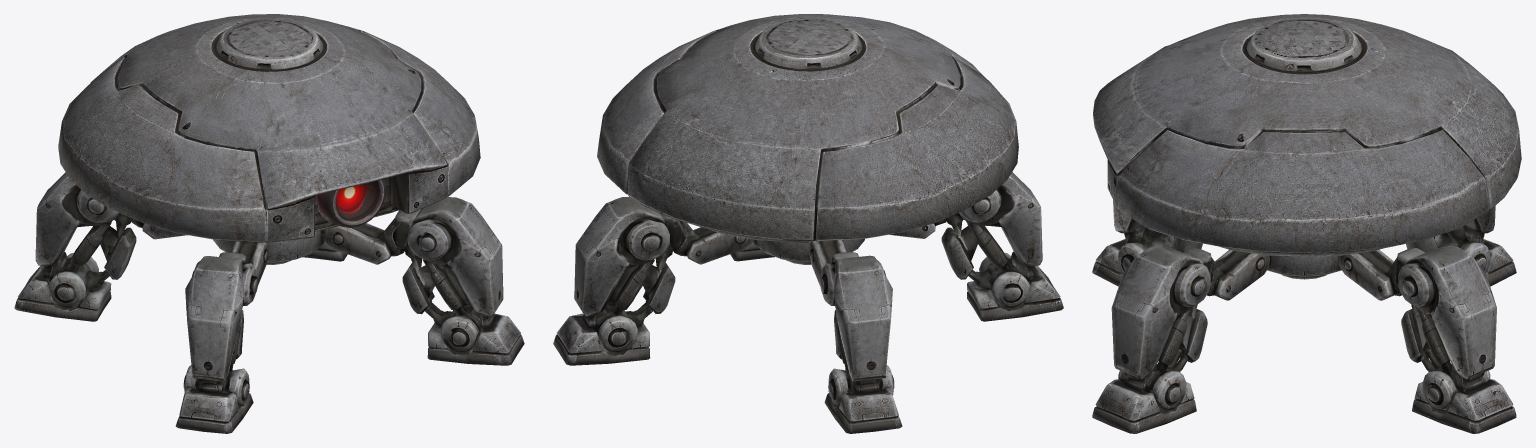
File: tripo_convert_31c24895-8f26-458c-ab37-e10d0a981d81.fbx
The picture shows the model from 3 angles, left to right: view 1: azimuth 30°, elevation 25°; view 2: azimuth 150°, elevation 25°; view 3: azimuth 270°, elevation 25°; orthographic projection. The views are drawn at different scales.
Visible parts, largest first — view 1: tripo_part_2, tripo_part_1, tripo_part_3, tripo_part_0, tripo_part_16, tripo_part_15, tripo_part_14, tripo_part_18, tripo_part_10, tripo_part_6, tripo_part_8, tripo_part_5 (+5 smaller); view 2: tripo_part_2, tripo_part_4, tripo_part_0, tripo_part_3, tripo_part_17, tripo_part_14, tripo_part_15, tripo_part_9, tripo_part_7, tripo_part_11, tripo_part_6, tripo_part_5 (+4 smaller); view 3: tripo_part_2, tripo_part_4, tripo_part_1, tripo_part_17, tripo_part_16, tripo_part_11, tripo_part_10, tripo_part_7, tripo_part_8, tripo_part_5, tripo_part_6, tripo_part_9 (+8 smaller).
Boxes of the visible parts, bbox=[...] form: tripo_part_2: bbox=[58, 14, 480, 242]; tripo_part_1: bbox=[402, 197, 503, 316]; tripo_part_3: bbox=[185, 256, 257, 381]; tripo_part_0: bbox=[35, 172, 136, 279]; tripo_part_16: bbox=[427, 313, 524, 365]; tripo_part_15: bbox=[175, 388, 253, 433]; tripo_part_14: bbox=[14, 266, 111, 321]; tripo_part_18: bbox=[318, 179, 386, 227]; tripo_part_10: bbox=[321, 223, 390, 264]; tripo_part_6: bbox=[43, 252, 98, 307]; tripo_part_8: bbox=[440, 305, 495, 352]; tripo_part_5: bbox=[213, 230, 324, 262]; tripo_part_2: bbox=[597, 14, 1018, 242]; tripo_part_4: bbox=[574, 196, 675, 316]; tripo_part_0: bbox=[820, 255, 892, 381]; tripo_part_3: bbox=[941, 172, 1042, 279]; tripo_part_17: bbox=[553, 313, 650, 365]; tripo_part_14: bbox=[824, 388, 902, 433]; tripo_part_15: bbox=[967, 265, 1063, 321]; tripo_part_9: bbox=[979, 251, 1034, 307]; tripo_part_7: bbox=[582, 305, 637, 352]; tripo_part_11: bbox=[687, 227, 752, 264]; tripo_part_6: bbox=[828, 365, 894, 407]; tripo_part_5: bbox=[753, 239, 864, 262]; tripo_part_2: bbox=[1093, 14, 1521, 256]; tripo_part_4: bbox=[1398, 245, 1496, 379]; tripo_part_1: bbox=[1111, 245, 1210, 379]; tripo_part_17: bbox=[1412, 379, 1516, 433]; tripo_part_16: bbox=[1092, 379, 1196, 433]; tripo_part_11: bbox=[1339, 249, 1393, 300]; tripo_part_10: bbox=[1214, 249, 1269, 300]; tripo_part_7: bbox=[1422, 364, 1490, 410]; tripo_part_8: bbox=[1118, 364, 1186, 410]; tripo_part_5: bbox=[1267, 255, 1341, 276]; tripo_part_6: bbox=[1434, 225, 1490, 272]; tripo_part_9: bbox=[1118, 226, 1174, 273].
Size of the model in its own units: 0.9995 by 0.7661 by 0.9624.
40 materials, 40 textured.
